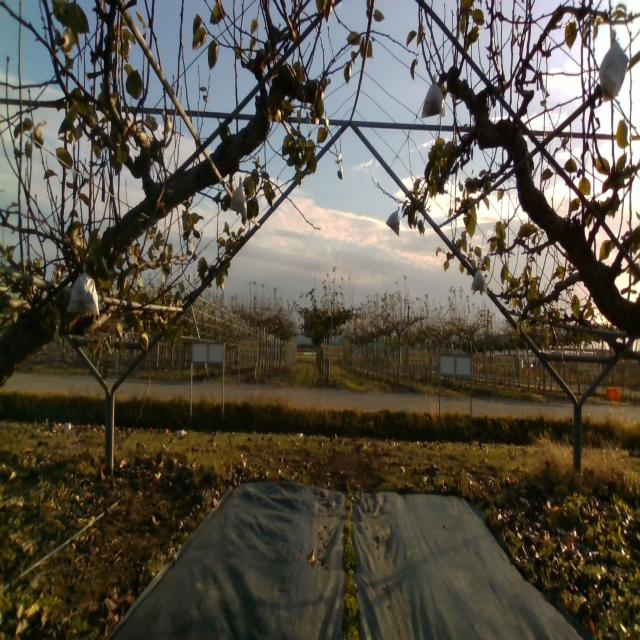pearbags: (599, 29, 630, 107), (66, 260, 101, 318), (420, 84, 447, 118), (231, 176, 248, 214), (471, 262, 488, 294), (386, 207, 399, 236)
